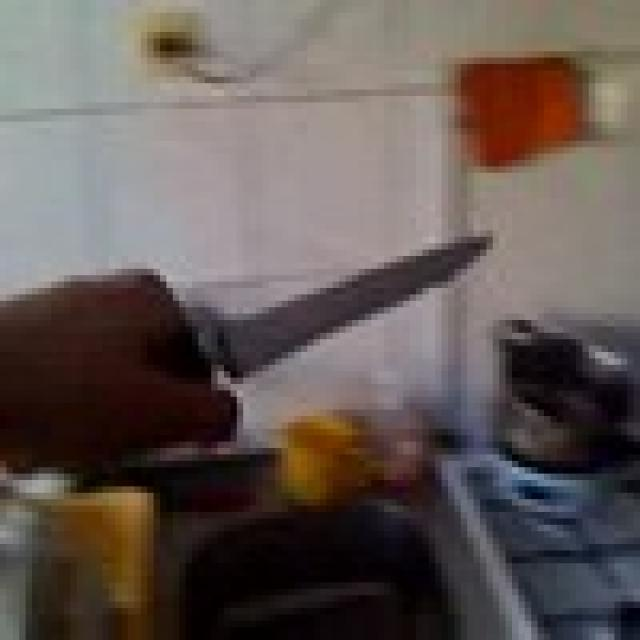weapon: (205, 217, 499, 428)
